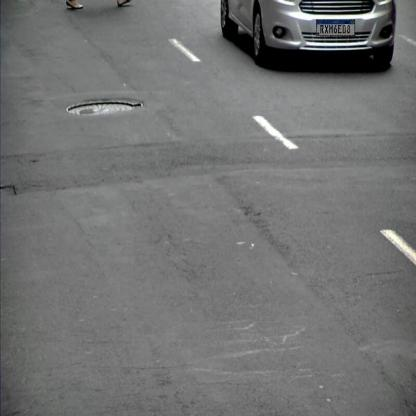PlacaM: (316, 19, 355, 36)
